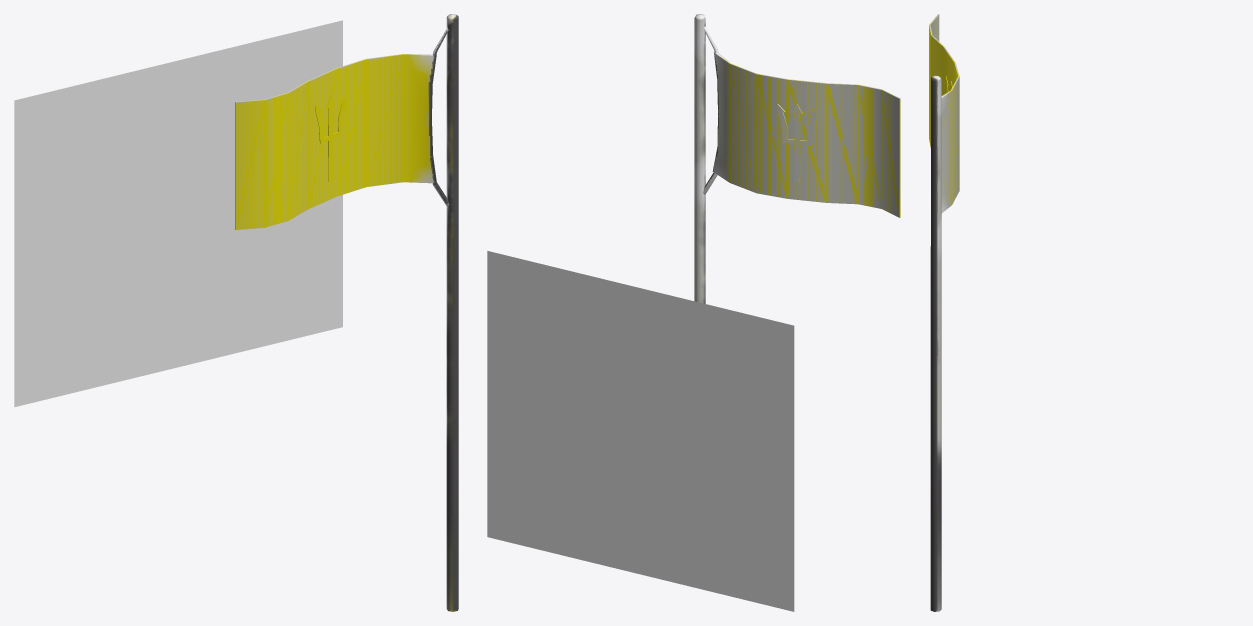
Rendered from side flag.fbx.
The picture shows the model from 3 angles, left to right: view 1: azimuth 30°, elevation 25°; view 2: azimuth 150°, elevation 25°; view 3: azimuth 270°, elevation 25°; orthographic projection. The views are drawn at different scales.
Visible parts, largest first — view 1: root, node_id82, node_id80, node_id84; view 2: root, node_id82, node_id80, node_id84; view 3: node_id80, node_id82.
Boxes of the visible parts, bbox=[...] form: root: bbox=[14, 20, 342, 407]; node_id82: bbox=[235, 27, 449, 229]; node_id80: bbox=[446, 14, 458, 611]; node_id84: bbox=[315, 94, 346, 181]; root: bbox=[487, 251, 794, 611]; node_id82: bbox=[703, 26, 900, 217]; node_id80: bbox=[694, 14, 705, 303]; node_id84: bbox=[777, 104, 816, 183]; node_id80: bbox=[930, 75, 941, 611]; node_id82: bbox=[929, 14, 959, 213].
Bounding box in the file's own units: 0.296 × 0.512 × 0.2693.
Materials: 4 (4 with a texture image).
